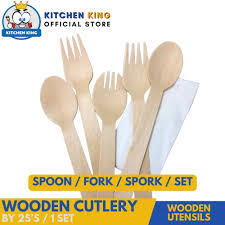Wooden Utensils: (37, 29, 183, 178)
